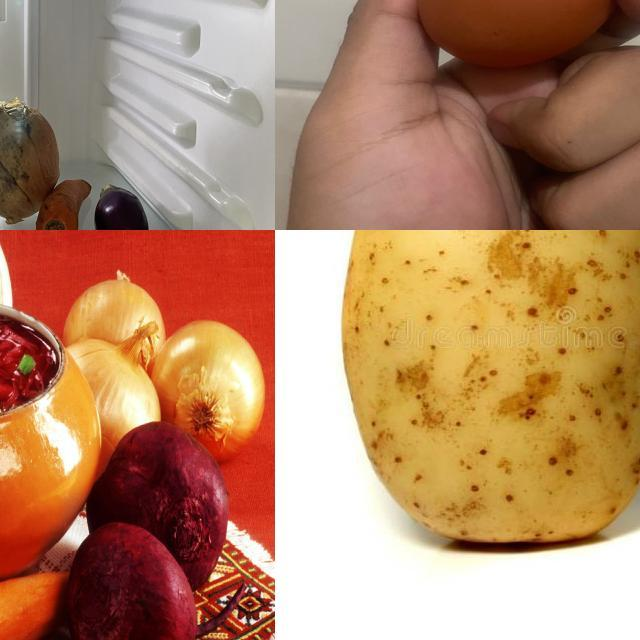beet: (98, 421, 225, 583), (76, 526, 192, 640)
carrot: (39, 175, 88, 231)
egg: (412, 1, 635, 72)
eggplant: (97, 182, 150, 231)
onion: (169, 322, 267, 450), (70, 337, 160, 445), (74, 268, 160, 360), (1, 97, 64, 220)
potato: (345, 231, 640, 546)
